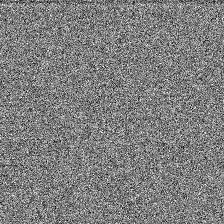cavities: (156, 45, 224, 113), (102, 82, 141, 102)
